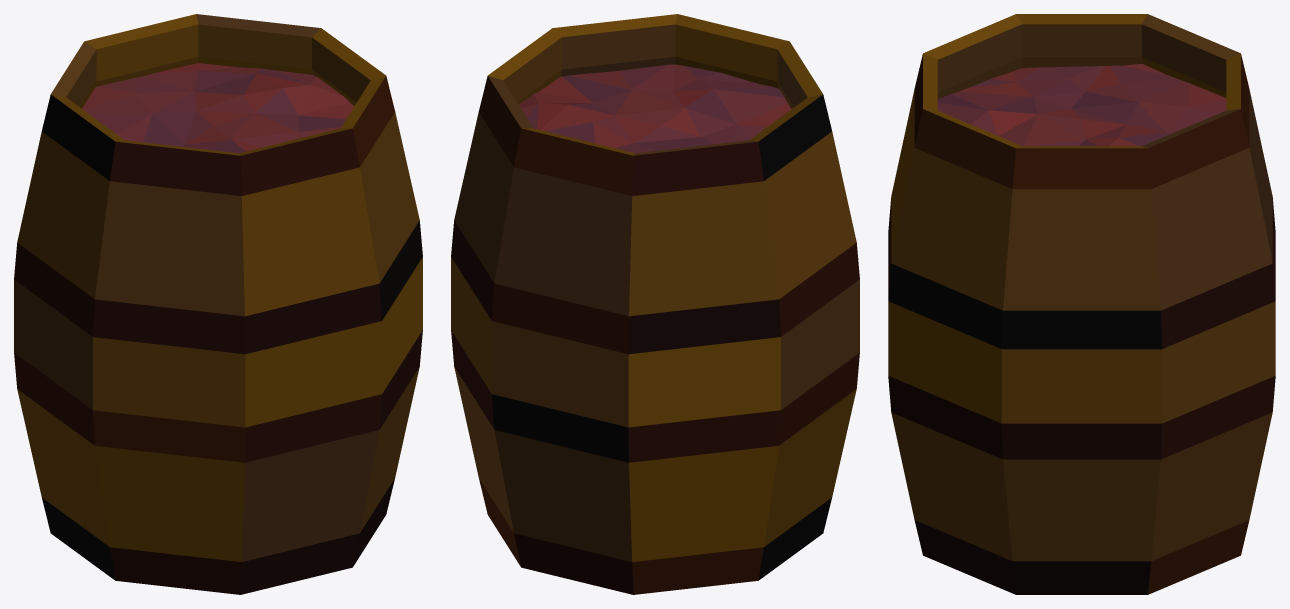
Rendered from BarrelFullWine.glb.
3 renders of one model, left to right at view 1: azimuth 30°, elevation 25°; view 2: azimuth 150°, elevation 25°; view 3: azimuth 270°, elevation 25°, orthographic.
Parts seen in each view (by area): view 1: BarrelFullWine; view 2: BarrelFullWine; view 3: BarrelFullWine.
Boxes of the visible parts, x1,y1,x2,y2 form: BarrelFullWine: (14, 14, 422, 594); BarrelFullWine: (451, 14, 859, 594); BarrelFullWine: (888, 14, 1275, 594).
Bounding box in the file's own units: 0.5505 × 0.7 × 0.5505.
